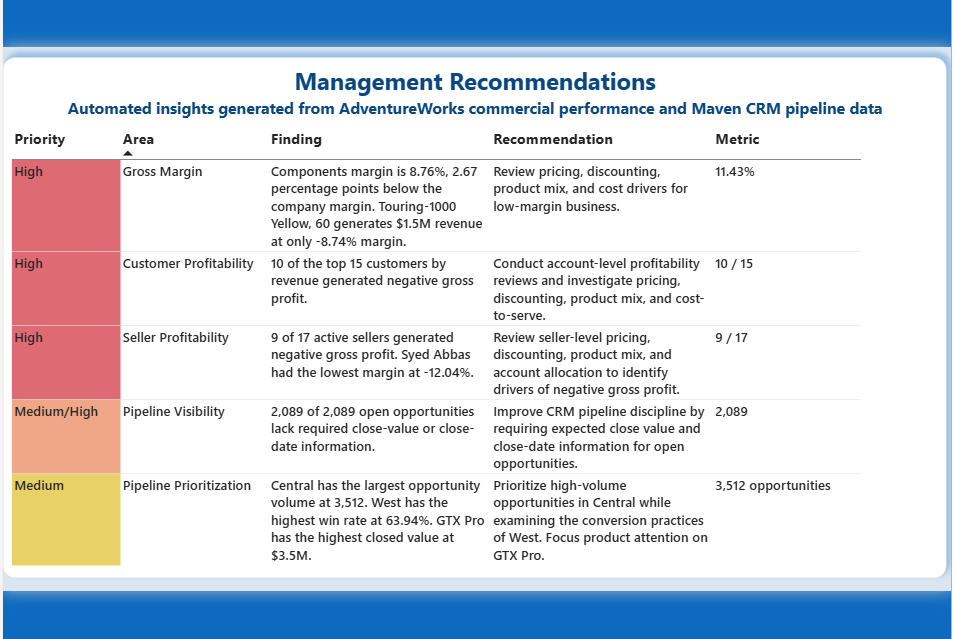

What the dashboard file says about the page in this screenshot:
{"tool":"powerbi","page":{"name":"Management Recommendations","canvas":[1920,1100],"ordinal":3},"visuals":[{"type":"tableEx","title":"Management Recommendations","fields":{"Values":["management_recommendations.Priority","management_recommendations.Area","management_recommendations.Finding","management_recommendations.Recommendation","management_recommendations.Metric"]},"box":[0,21.3,1910.9,1054.2],"z":0}]}

Visuals, with their boxes on the page's 1920x1100 design canvas (x1, y1, x2, y2). These are canvas units, not pixel positions in the 954x639 screenshot, which may show the page scaled, cropped or inside an application window:
"Management Recommendations" tableEx: 0,21,1911,1076
